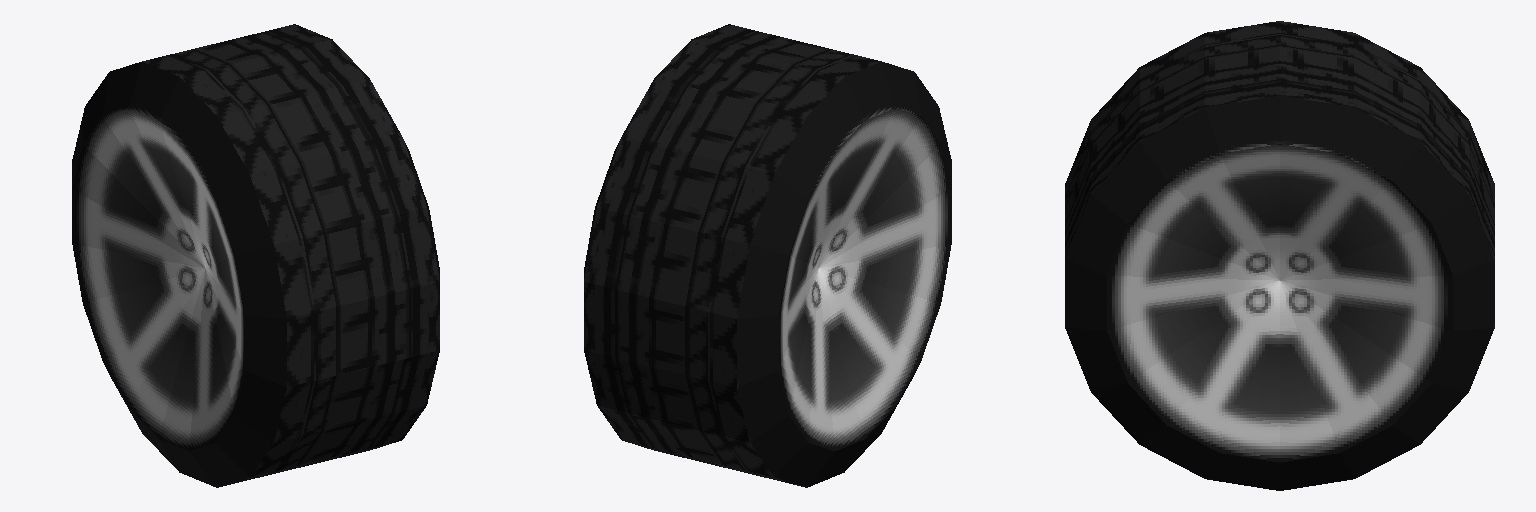
3 renders of one model, left to right at view 1: azimuth 30°, elevation 25°; view 2: azimuth 150°, elevation 25°; view 3: azimuth 270°, elevation 25°, orthographic.
Visible parts, largest first — view 1: wheel_Cylinder01x; view 2: wheel_Cylinder01x; view 3: wheel_Cylinder01x.
Boxes of the visible parts, x1,y1,x2,y2 form: wheel_Cylinder01x: [72, 24, 439, 487]; wheel_Cylinder01x: [584, 24, 951, 487]; wheel_Cylinder01x: [1065, 21, 1494, 490].
Bounding box in the file's own units: 30.68 × 59.69 × 58.78.
1 materials, 1 textured.